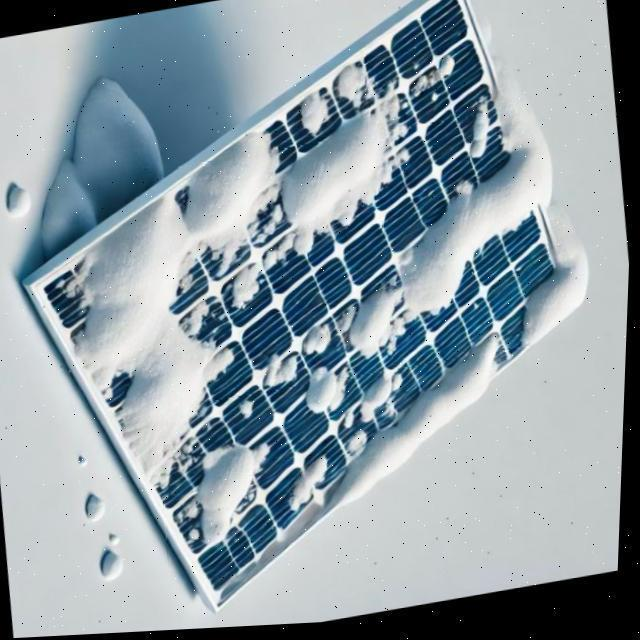Anomaly Solar Panel: (18, 0, 631, 609)
Snow: (27, 126, 402, 499), (330, 86, 591, 399), (183, 85, 448, 318), (299, 331, 532, 523), (172, 424, 284, 557), (505, 271, 599, 362), (283, 451, 344, 524), (351, 363, 417, 430), (401, 50, 466, 110), (306, 366, 361, 425), (472, 100, 497, 167), (340, 66, 375, 112), (263, 351, 303, 391), (304, 320, 339, 362), (301, 95, 332, 140), (241, 406, 259, 421)
